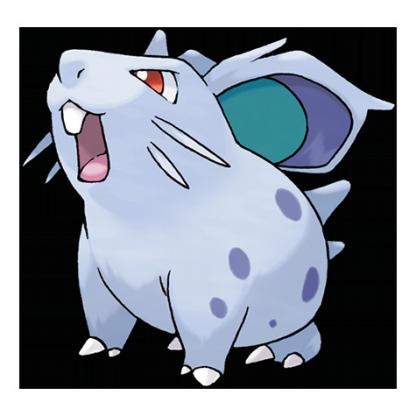Nidorina: (32, 31, 381, 384)
